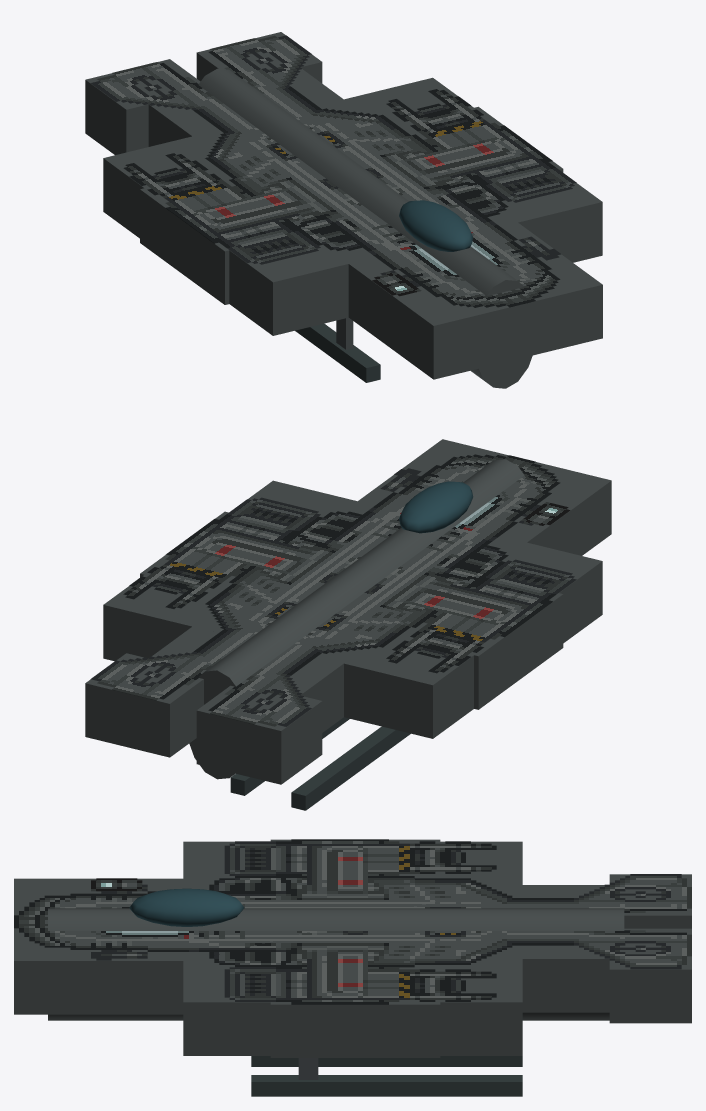
The model's file is CMU3DReduxVehicleBlackfootDoorGunVariant.glb.
3 views of the same model, one above another, from view 1: azimuth 30°, elevation 25°; view 2: azimuth 150°, elevation 25°; view 3: azimuth 270°, elevation 25° (orthographic).
Parts seen in each view (by area): view 1: airframe original finish, airframe section (×9), rounded fuselage keel, cockpit canopy, landing skid; view 2: airframe original finish, airframe section (×9), rounded fuselage keel, landing skid (×2), cockpit canopy; view 3: airframe section (×9), airframe original finish, rounded fuselage keel, landing skid (×2), cockpit canopy, landing gear strut.
Part boxes in pixels (x1,y1,x2,y2): airframe original finish: (90,35,576,307); airframe section (×9): (85,32,602,379); rounded fuselage keel: (198,68,532,388); cockpit canopy: (399,200,473,251); landing skid: (295,323,380,382); airframe original finish: (91,454,576,726); airframe section (×9): (85,439,611,784); rounded fuselage keel: (189,459,524,779); landing skid (×2): (230,717,410,810); cockpit canopy: (399,481,473,533); airframe section (×9): (14,839,691,1057); airframe original finish: (14,839,691,1004); rounded fuselage keel: (48,908,624,1020); landing skid (×2): (251,1056,522,1096); cockpit canopy: (129,888,244,926); landing gear strut: (298,1058,318,1079).
Size of the model in its own units: 2.38 by 1.25 by 4.12.
Materials: 5 (1 with a texture image).
